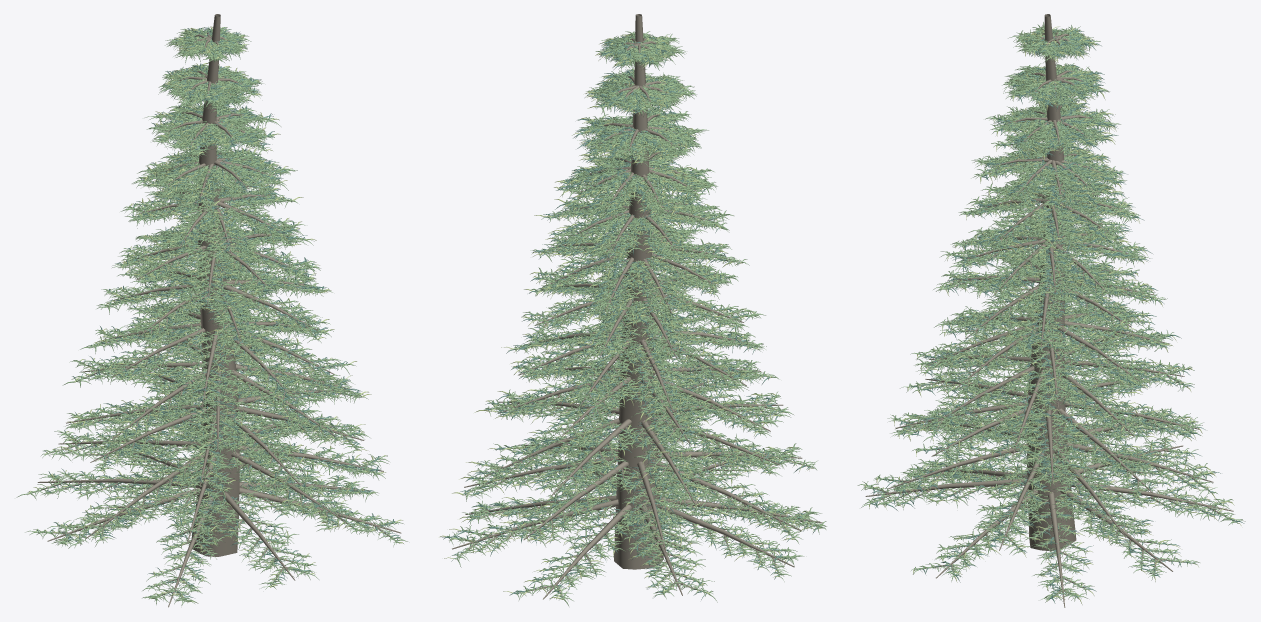
The picture shows the model from 3 angles, left to right: view 1: azimuth 30°, elevation 25°; view 2: azimuth 150°, elevation 25°; view 3: azimuth 270°, elevation 25°; orthographic projection. The views are drawn at different scales.
Parts seen in each view (by area): view 1: cedar_fir; view 2: cedar_fir; view 3: cedar_fir.
Part boxes in pixels (x1,y1,x2,y2): cedar_fir: (16,14,407,607); cedar_fir: (439,14,826,605); cedar_fir: (857,14,1245,607).
Bounding box in the file's own units: 6.27 × 9.64 × 6.46.
